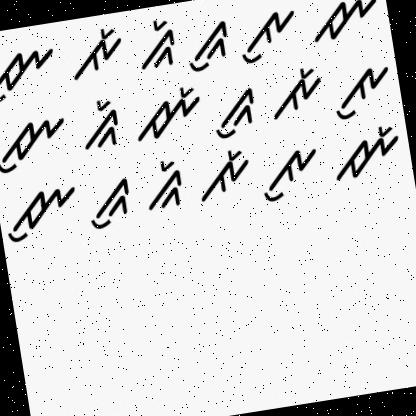ar: (60, 20, 130, 82), (191, 142, 255, 208), (265, 60, 329, 122)
aw: (250, 137, 324, 208), (232, 0, 303, 66), (328, 55, 396, 123)
nggar: (129, 11, 184, 73), (141, 152, 188, 217), (74, 98, 124, 157)
nggaw: (79, 170, 136, 235), (206, 83, 264, 143), (183, 17, 235, 78)
njar: (128, 79, 206, 152), (326, 121, 406, 185), (305, 0, 384, 48)
njaw: (0, 174, 87, 254), (0, 105, 74, 182), (0, 40, 60, 107)
